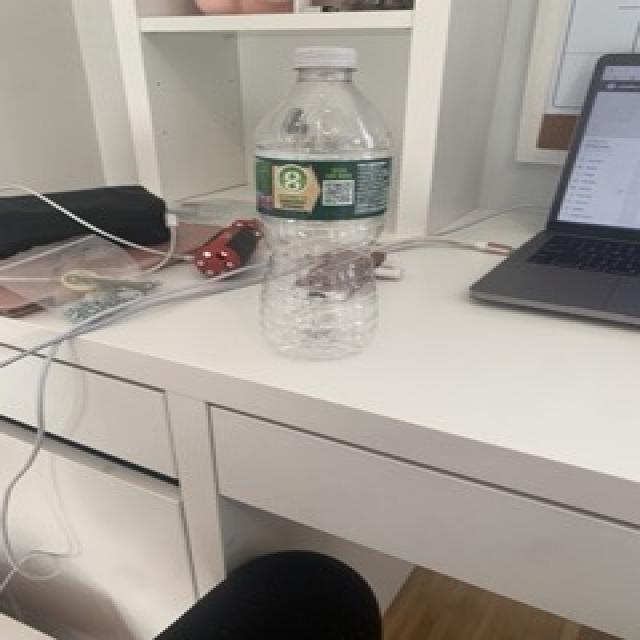water_bottle: (246, 41, 397, 361)
